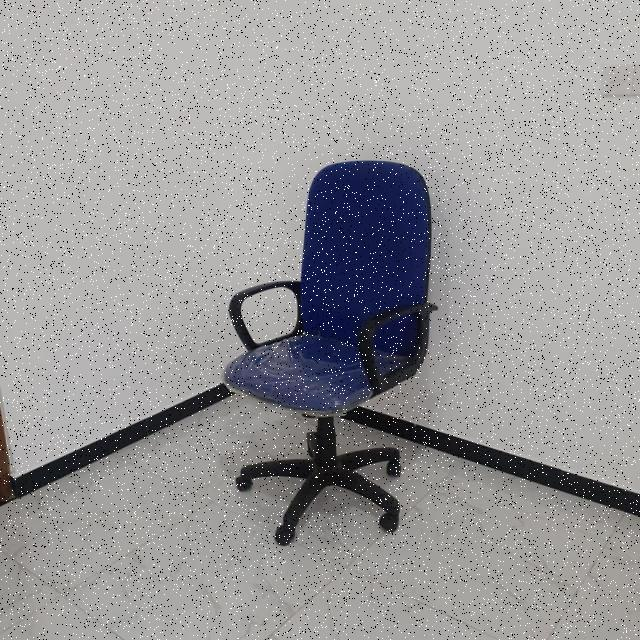bottle: (230, 158, 441, 548)
